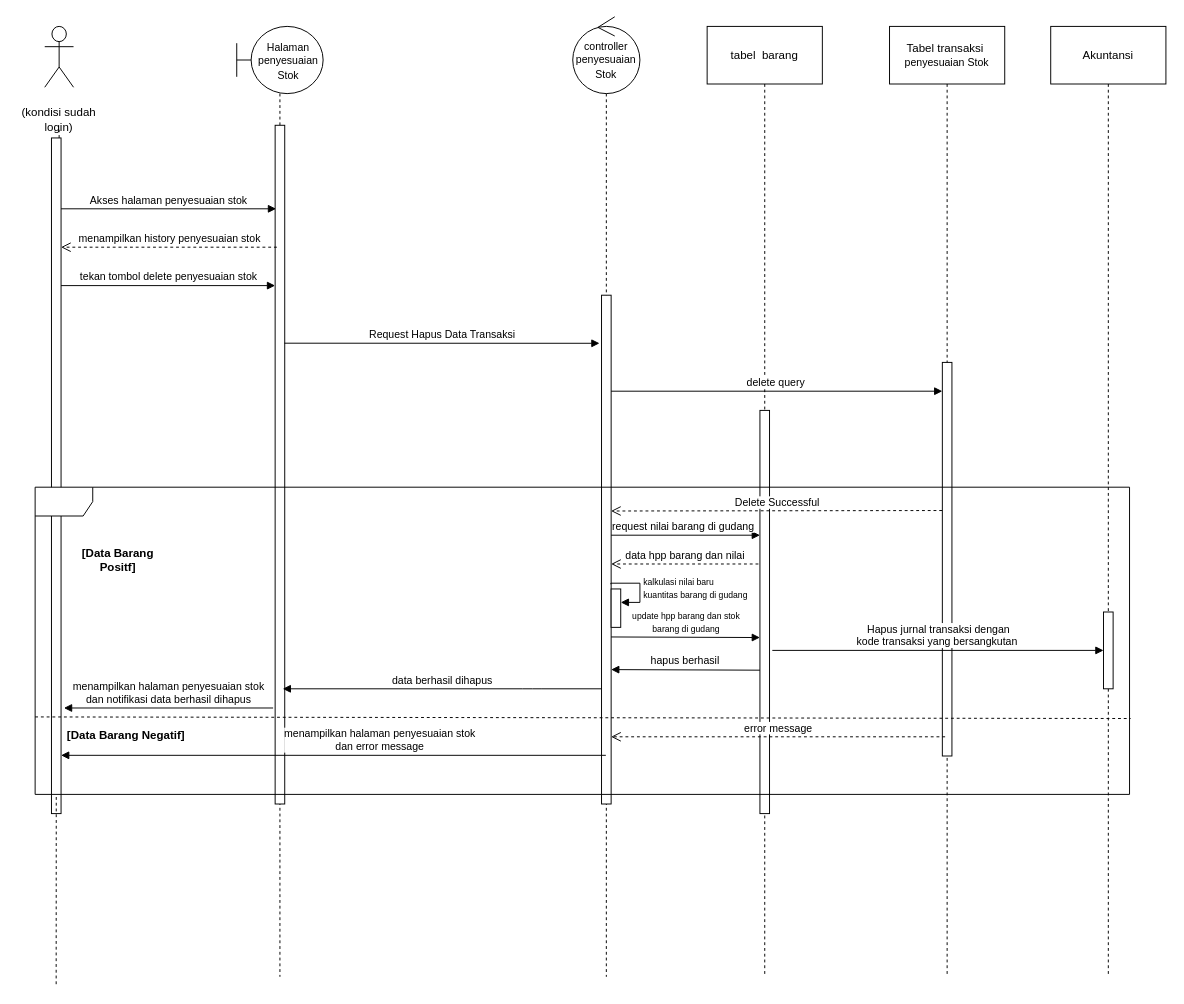
Image size: 1184x1004. Some labels were removed from this diagram. The box of each missing label's shape, as (x1, y1, x2, y2) in pixels:
Actor: (44, 25, 74, 87)
alt: (34, 486, 1130, 794)
